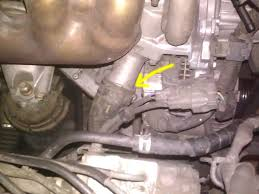radiator_hose: (87, 79, 136, 146)
